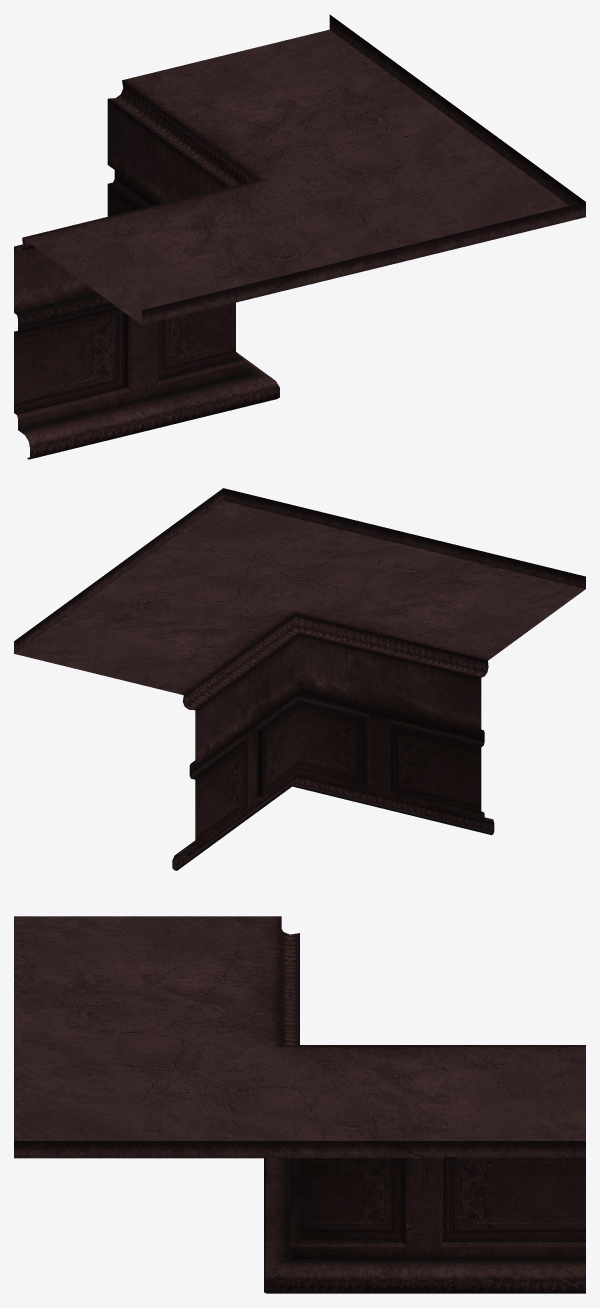
Rendered from 42_corner_convex02_short.dae.
3 views of the same model, one above another, from view 1: azimuth 30°, elevation 25°; view 2: azimuth 150°, elevation 25°; view 3: azimuth 270°, elevation 25° (orthographic). The views are drawn at different scales.
Visible parts, largest first — view 1: corner_convex_short; view 2: corner_convex_short; view 3: corner_convex_short.
Boxes of the visible parts, x1=… form: corner_convex_short: x1=14, y1=14, x2=585, y2=459; corner_convex_short: x1=14, y1=488, x2=585, y2=870; corner_convex_short: x1=14, y1=916, x2=585, y2=1293.
Bounding box in the file's own units: 4 × 2 × 4.
